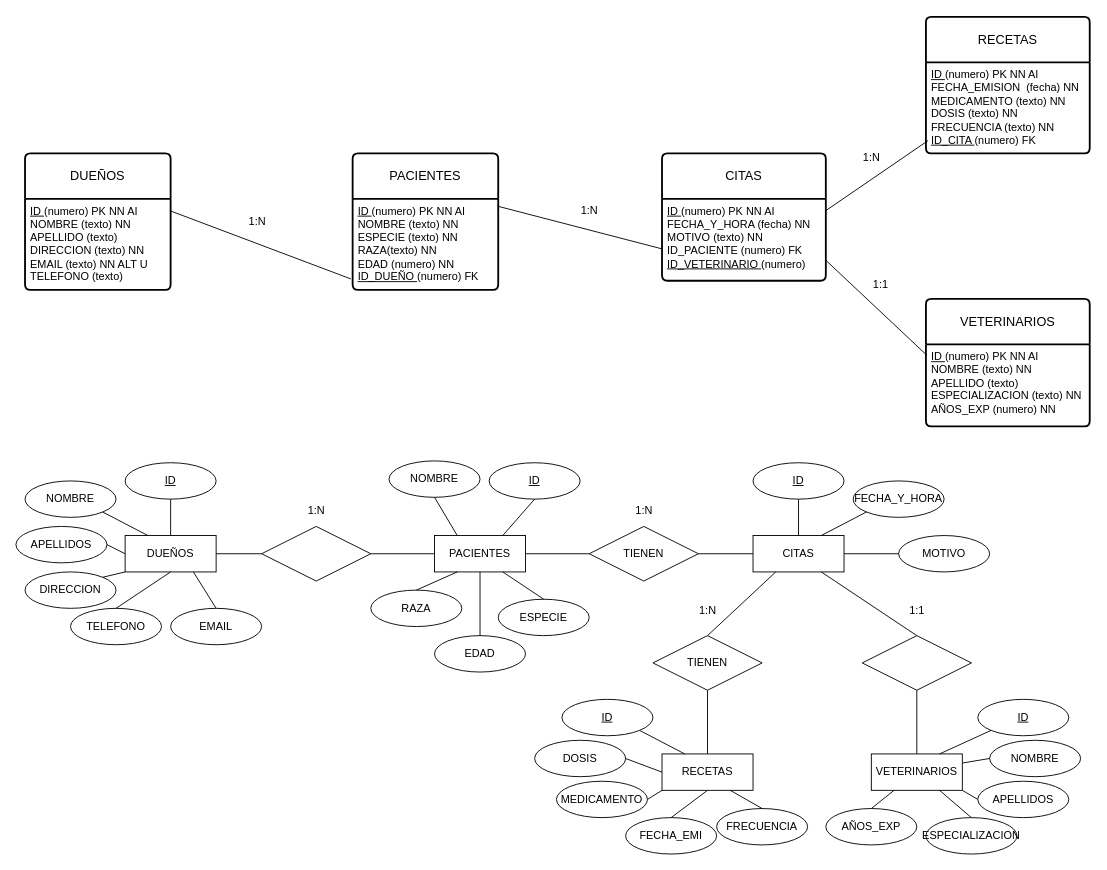
This 1107x870 diagram has some shape labels left out. The shapes that lost their labels are listed below. From the top down, each one's box as (x1, y1, x2, y2) in pixels, then its label:
(261, 526, 371, 581): POSEEN
(861, 635, 971, 690): ATIENDEN
